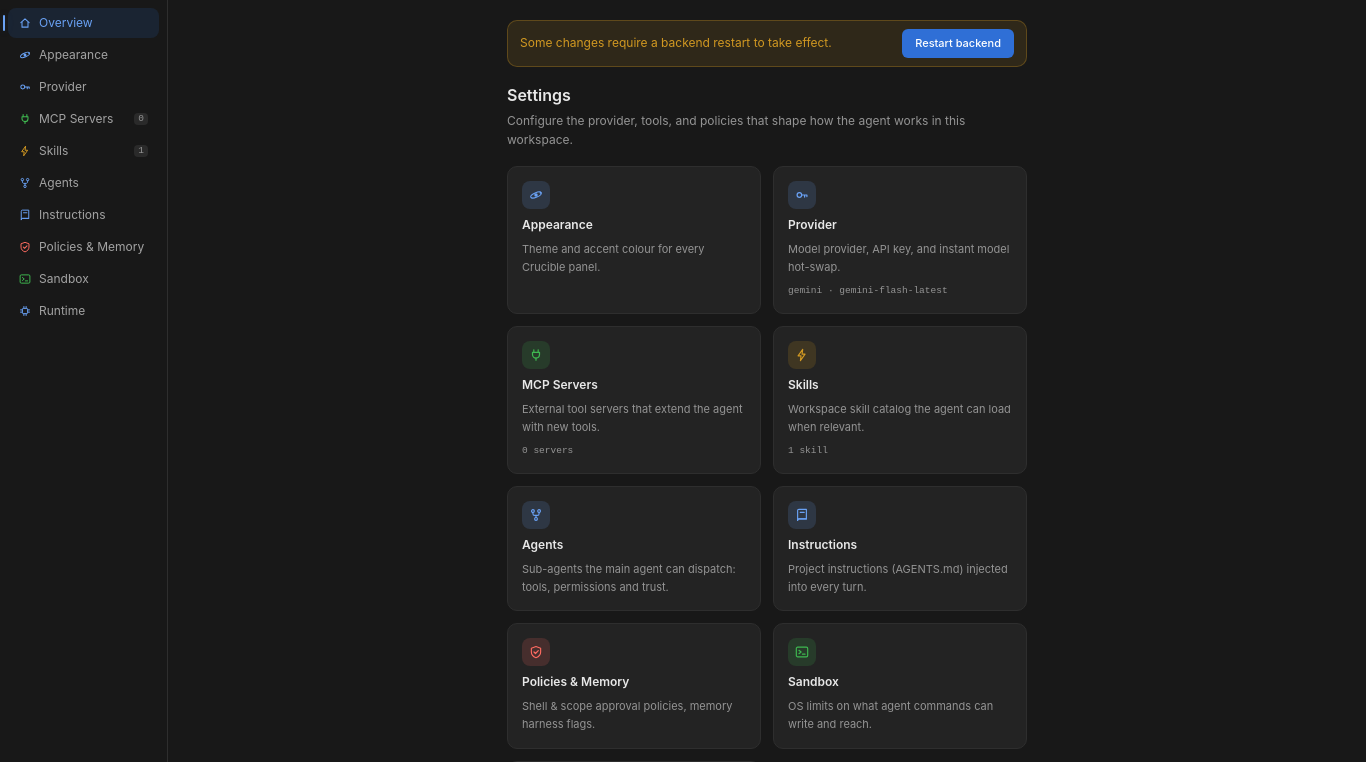
SettingsApp shell › requests instructions on first visit to the Instructions section
Step 1. Click the button "Instructions" → {"x": 84, "y": 215}, box [8,200,159,230]
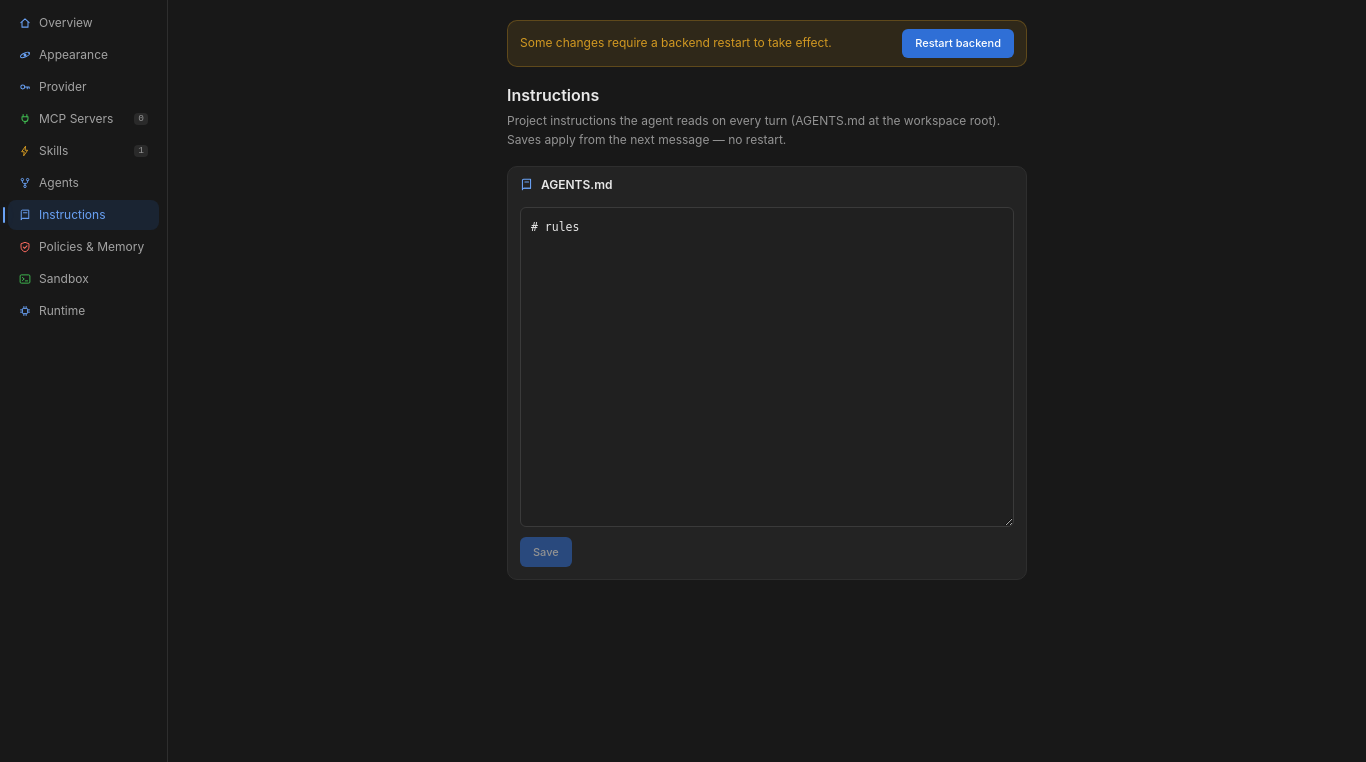
Result: the text box holds "# rules" at [520,207,1014,527]
